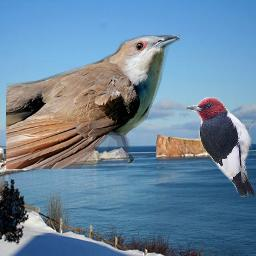Cuckoo: (6, 35, 180, 169)
Woodpecker: (185, 97, 254, 197)
